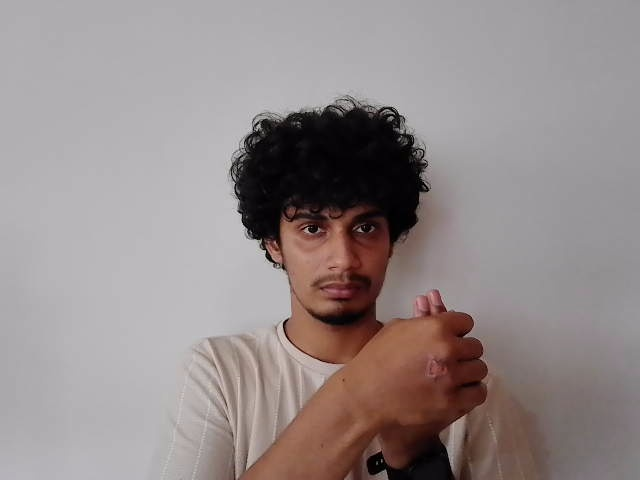with: (352, 286, 500, 434)
